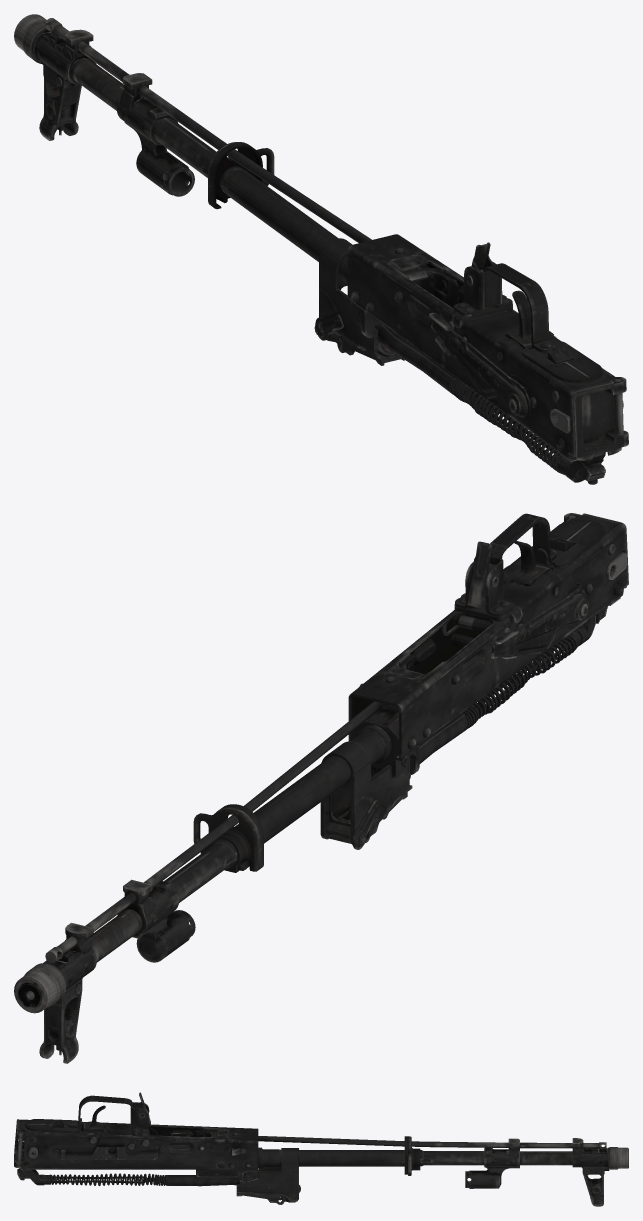
The picture shows the model from 3 angles, top to bottom: view 1: azimuth 30°, elevation 25°; view 2: azimuth 150°, elevation 25°; view 3: azimuth 270°, elevation 25°; orthographic projection. The views are drawn at different scales.
Parts seen in each view (by area): view 1: TW_5ac4cd105acfc40016339859_PZ_Import; view 2: TW_5ac4cd105acfc40016339859_PZ_Import; view 3: TW_5ac4cd105acfc40016339859_PZ_Import.
Part boxes in pixels (x1,y1,x2,y2): TW_5ac4cd105acfc40016339859_PZ_Import: (14, 14, 628, 484); TW_5ac4cd105acfc40016339859_PZ_Import: (14, 513, 628, 1063); TW_5ac4cd105acfc40016339859_PZ_Import: (14, 1092, 628, 1206).
Bounding box in the file's own units: 0.0285 × 0.373 × 0.0735.
1 material, 1 textured.
